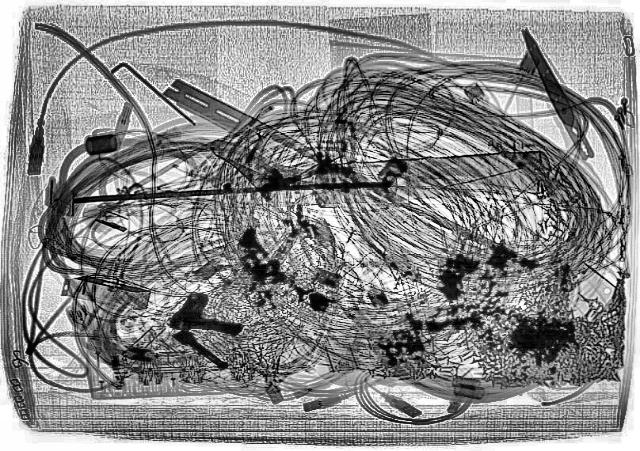Gun: (166, 289, 248, 339)
